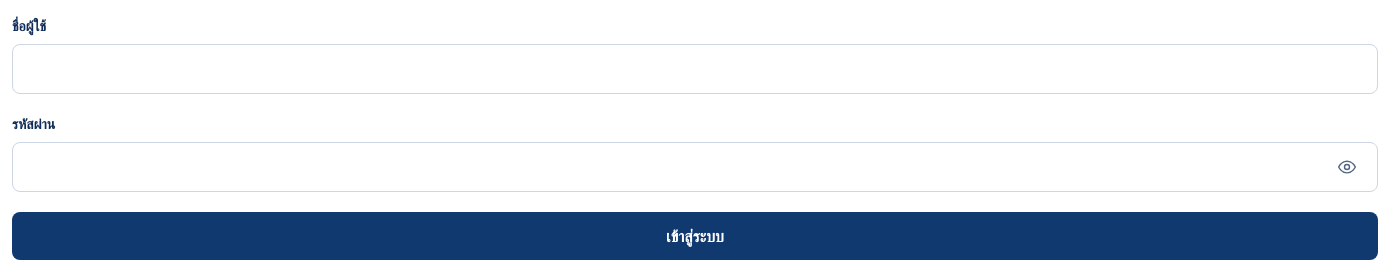
Test: keeps password visibility reversible without changing the entered value
In the password field labelled "รหัสผ่าน": (673, 167) [27,143,1319,191], type "synthetic-test-value"
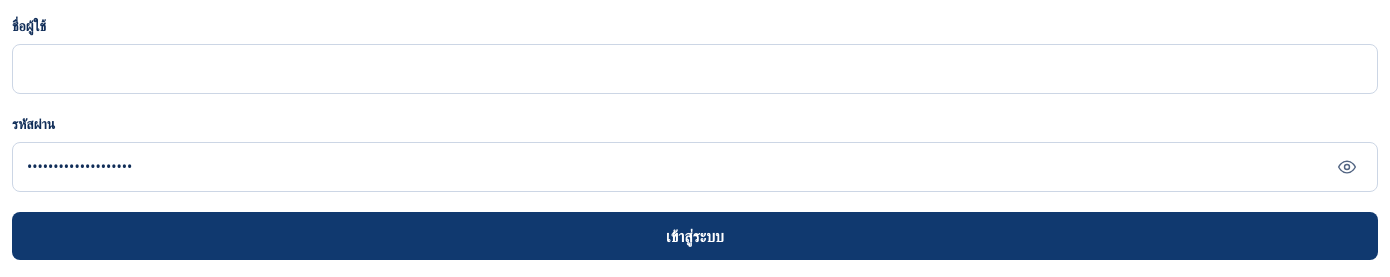
Click the button named "แสดงรหัสผ่าน": (1347, 167) [1331,151,1363,183]
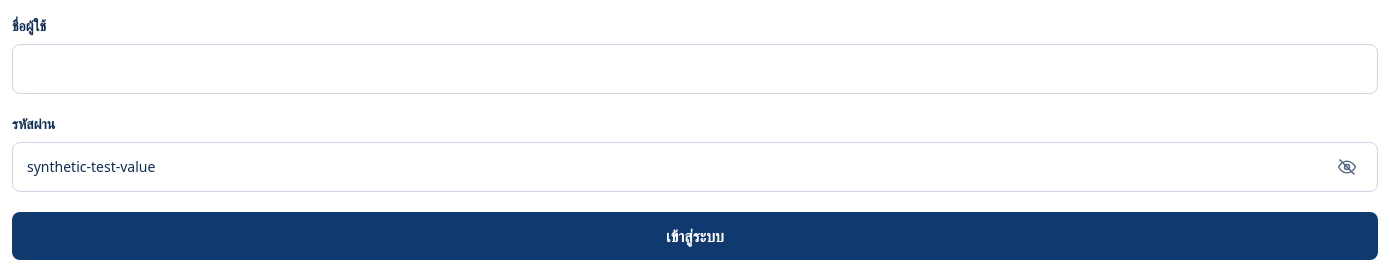
Now the field labelled "รหัสผ่าน" shows its text, box [27,143,1319,191]
Click the button named "ซ่อนรหัสผ่าน": (1347, 167) [1331,151,1363,183]
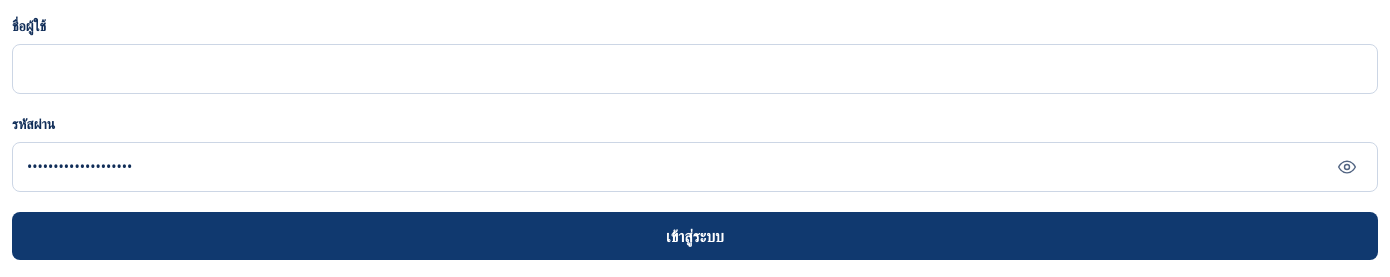
Now the password field labelled "รหัสผ่าน" hides its text, box [27,143,1319,191]
